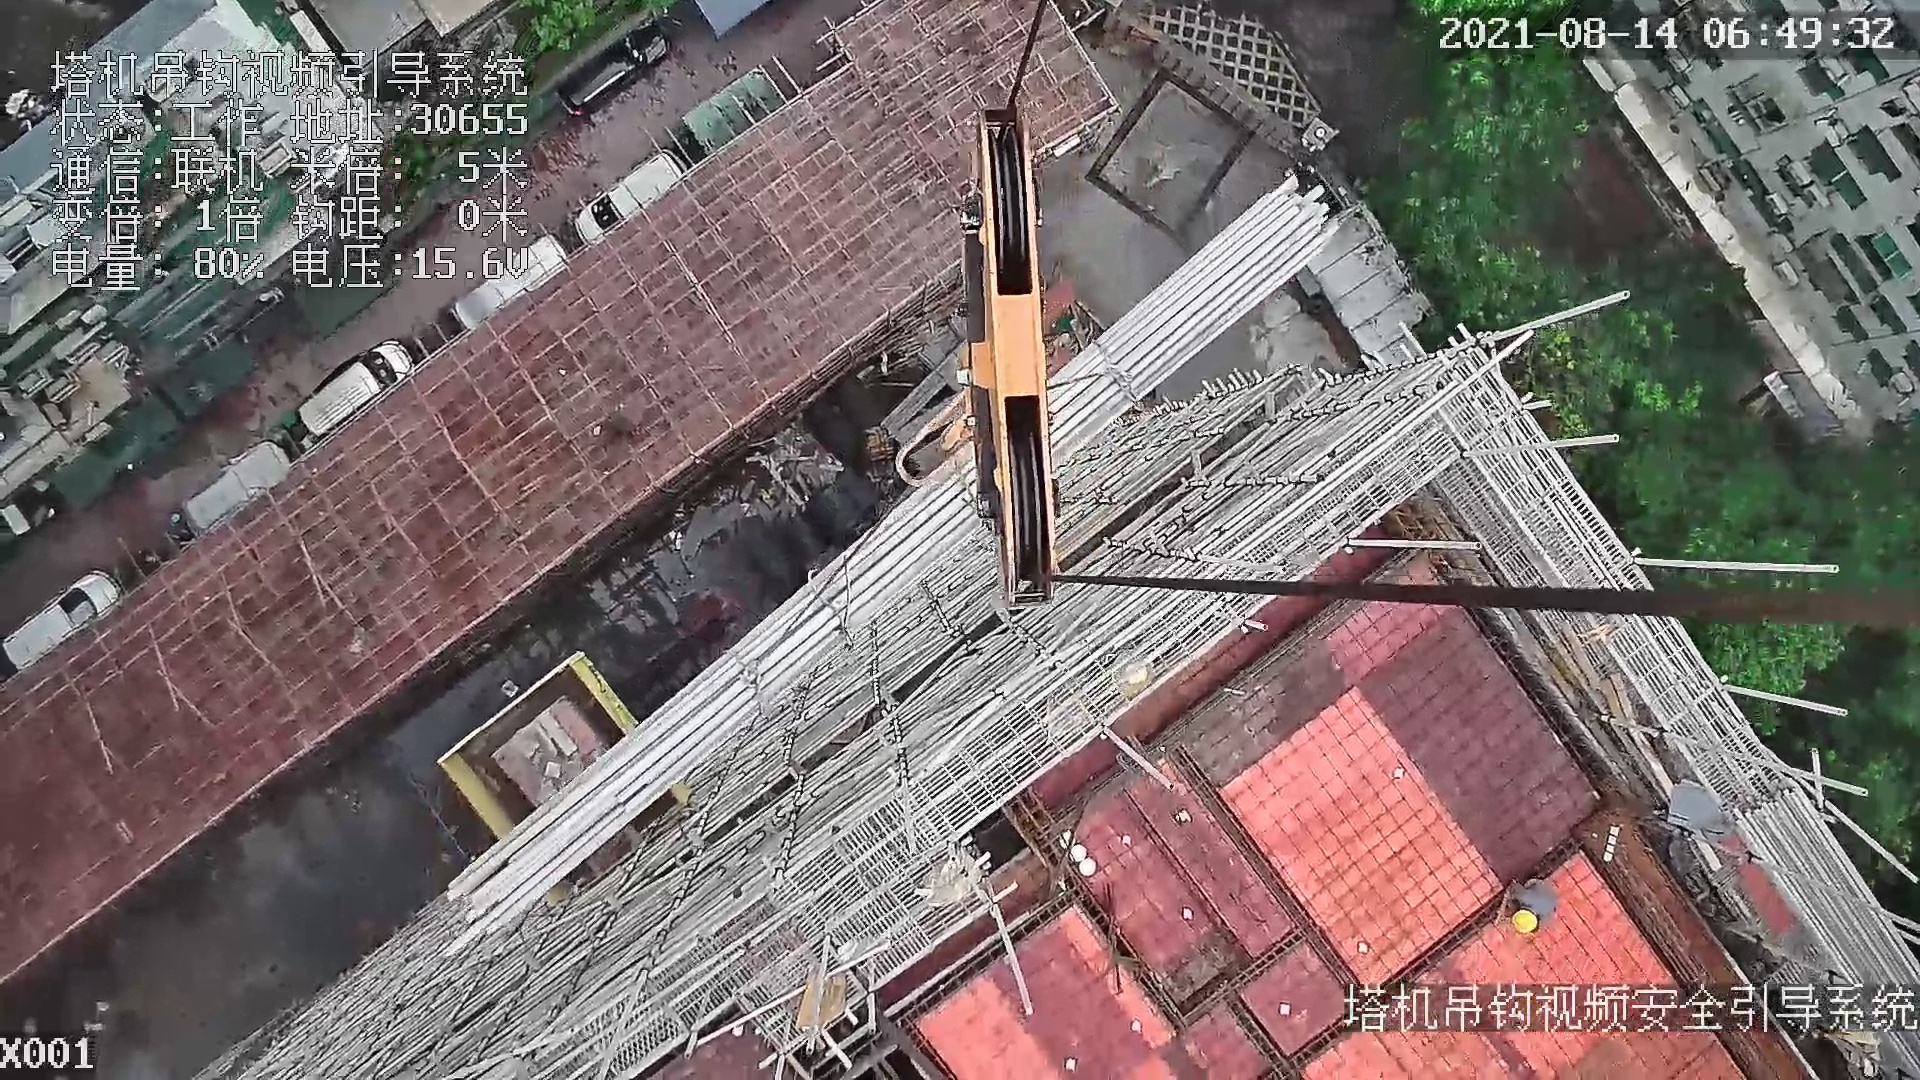helmet: (1509, 906, 1545, 938)
hook: (931, 101, 1063, 614)
person: (1496, 862, 1555, 941)
